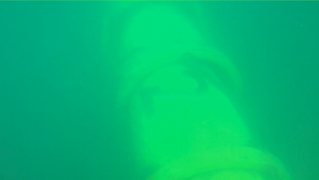2: (139, 68, 208, 119)
pipe: (101, 1, 291, 179)
